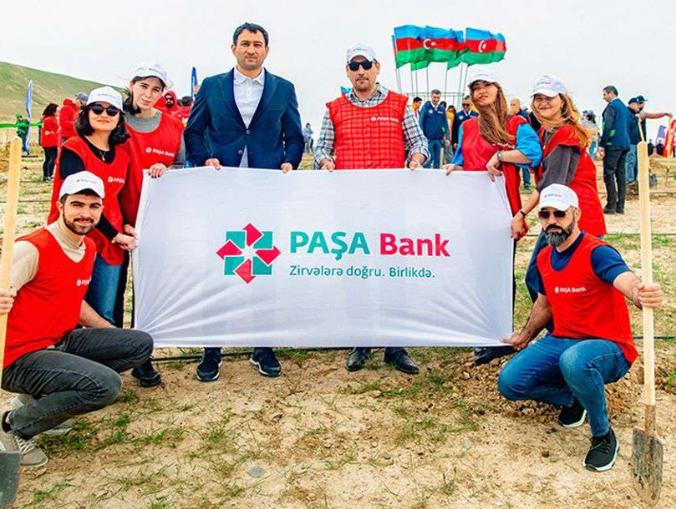Pasha Bank: (214, 222, 282, 286)
